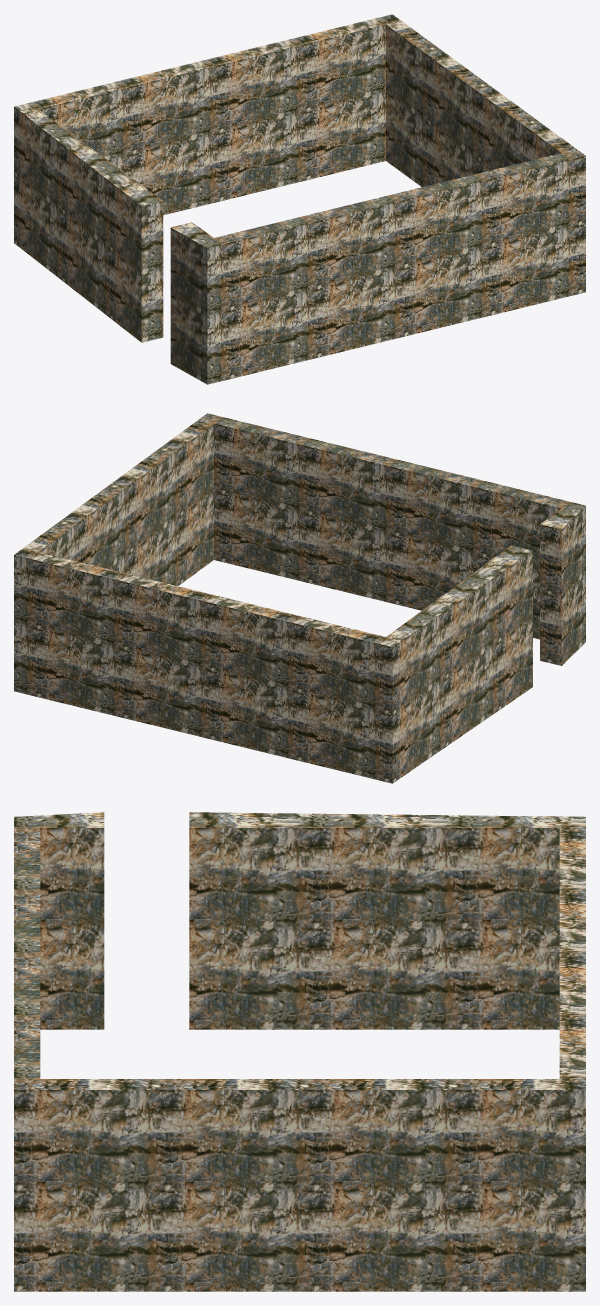
Rendered from sala_magnetica.FBX.
The picture shows the model from 3 angles, top to bottom: view 1: azimuth 30°, elevation 25°; view 2: azimuth 150°, elevation 25°; view 3: azimuth 270°, elevation 25°; orthographic projection. The views are drawn at different scales.
Visible parts, largest first — view 1: sala_magnetica_300cm; view 2: sala_magnetica_300cm; view 3: sala_magnetica_300cm.
Boxes of the visible parts, box(x1,y1,x2,y2) form: sala_magnetica_300cm: box(14, 14, 585, 384); sala_magnetica_300cm: box(14, 413, 585, 783); sala_magnetica_300cm: box(14, 812, 585, 1291).
Bounding box in the file's own units: 349 × 118 × 303.
